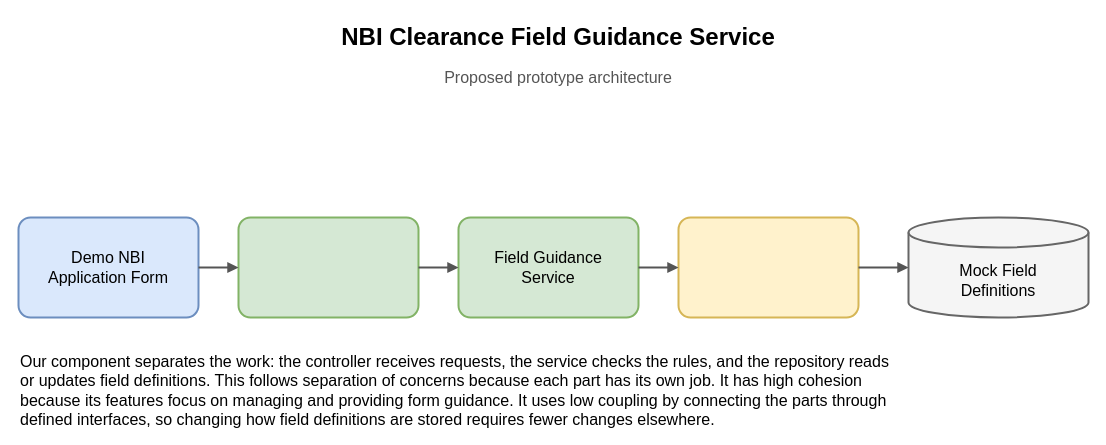
The diagram is 1106 pixels wide and 445 high, and some of its shapes have lost their labels. Each missing label, with the box of its shape:
Field Definition Repository (Data Access): (677, 216, 859, 318)
Field Guidance API (Interface): (237, 216, 419, 318)
